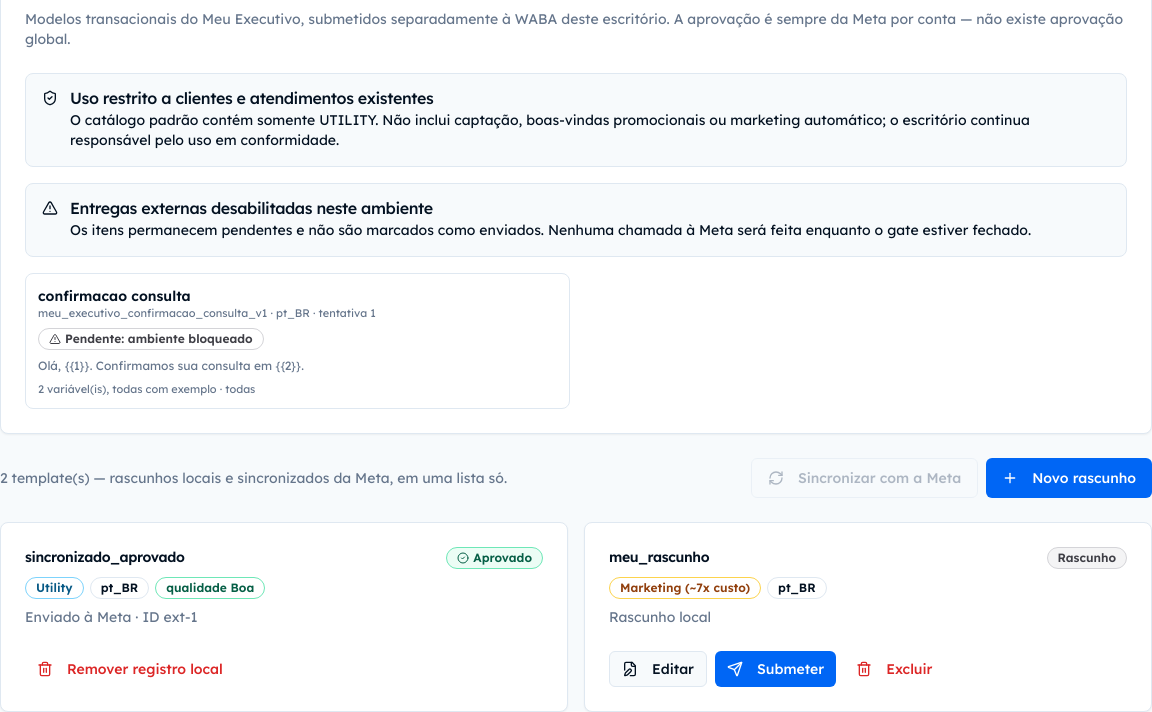
Test: WhatsAppMetaTemplates: builder de rascunho › chama o serviço de criação quando o rascunho é válido
Later steps or results of the test are not shown.
(page scrolled)
Expected: the text "sincronizado_aprovado" is shown, x1=25 y1=547 x2=185 y2=567
Click the button "Novo rascunho" at {"x": 1069, "y": 478}, box x1=986 y1=458 x2=1151 y2=498
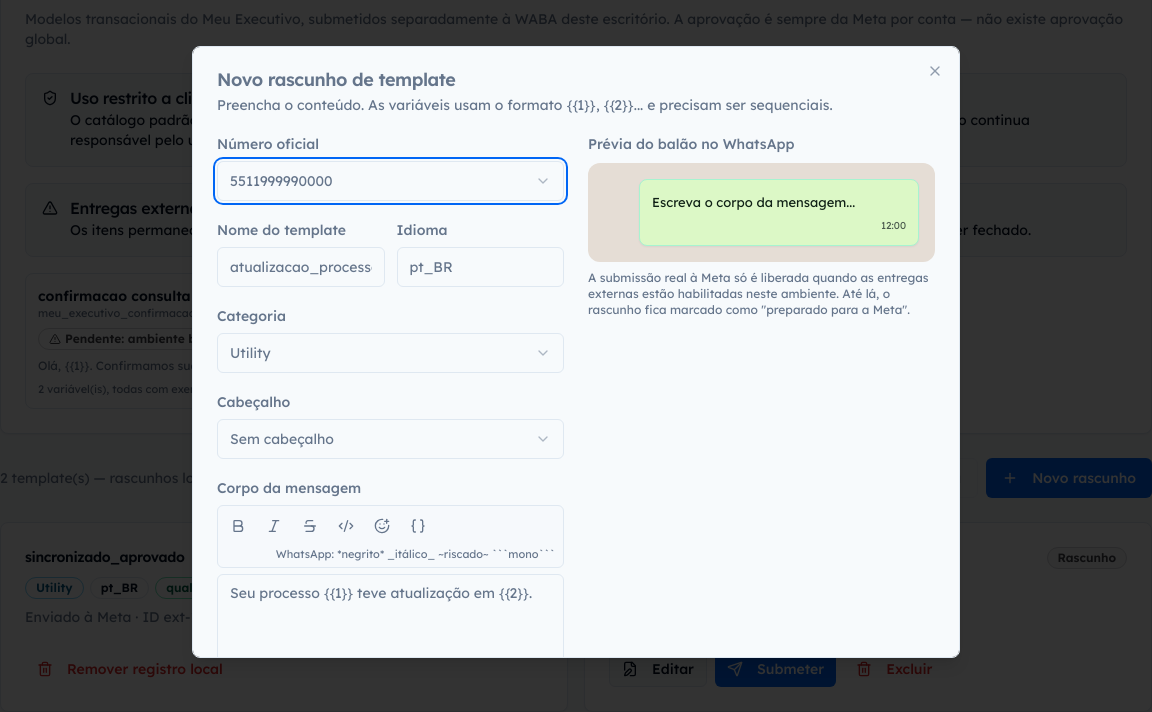
Result: the heading "Novo rascunho de template" is shown at x1=217 y1=68 x2=455 y2=91
